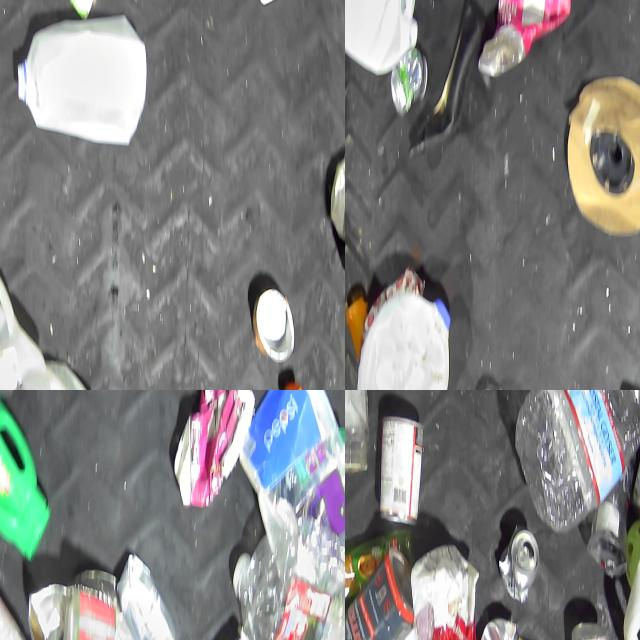can: (374, 404, 424, 526), (252, 269, 292, 350), (499, 516, 537, 595), (392, 33, 426, 119)
milk_jug: (8, 0, 149, 147), (0, 247, 101, 390), (353, 290, 453, 390), (345, 0, 413, 72)
non_white_jug: (0, 390, 48, 554)
plastic_bottle: (230, 499, 345, 640), (270, 358, 316, 390)
